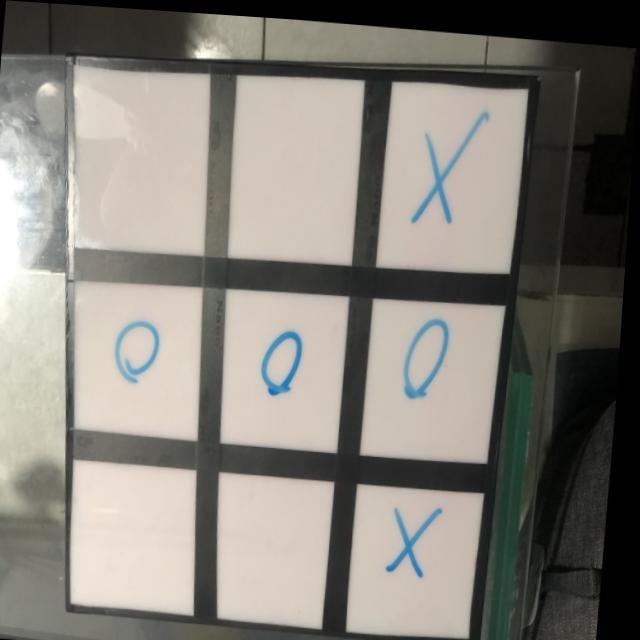null: (227, 66, 365, 263), (69, 64, 211, 254), (215, 468, 341, 625), (78, 456, 203, 612)
o: (404, 309, 460, 402), (114, 307, 172, 386), (258, 319, 310, 399)
table: (51, 56, 536, 640)
x: (417, 112, 482, 230), (388, 492, 445, 576)
